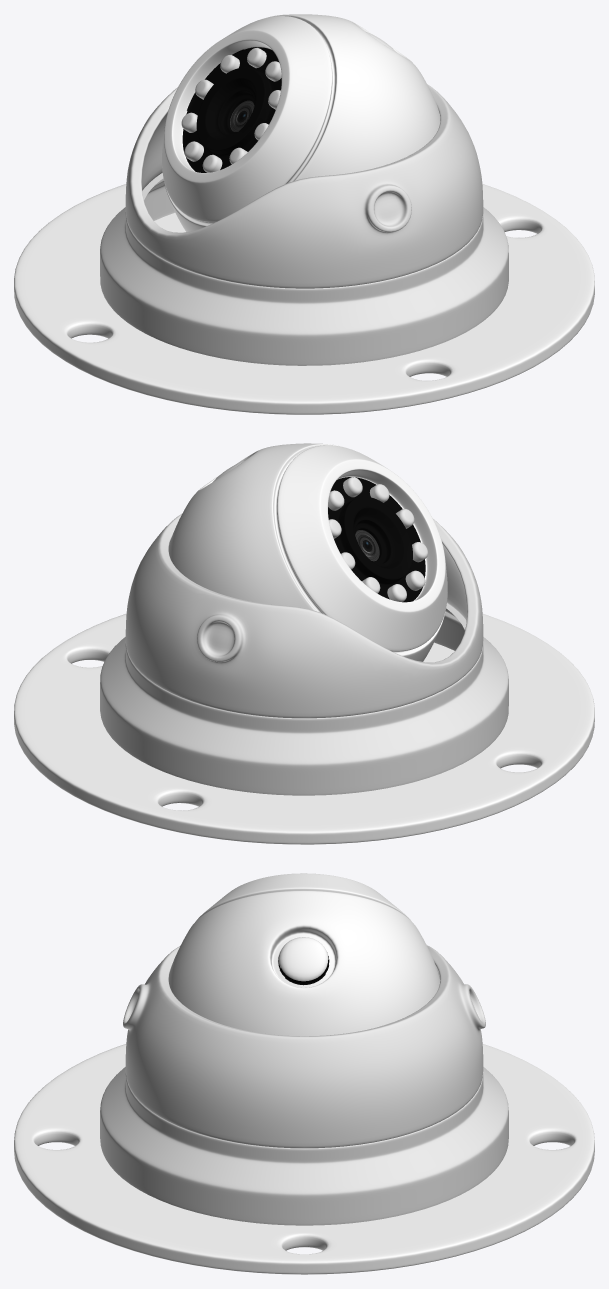
Rendered from Camera.fbx.
3 renders of one model, top to bottom at view 1: azimuth 30°, elevation 25°; view 2: azimuth 150°, elevation 25°; view 3: azimuth 270°, elevation 25°, orthographic.
Parts seen in each view (by area): view 1: Footholder, Ball, Holder, Foot, Light; view 2: Footholder, Ball, Holder, Foot, Light; view 3: Footholder, Holder, Ball, Foot.
Part boxes in pixels (<box>): Footholder: <box>14,184,594,414</box>; Ball: <box>162,14,440,231</box>; Holder: <box>125,84,483,288</box>; Foot: <box>100,173,508,365</box>; Light: <box>181,48,281,172</box>; Footholder: <box>14,613,594,844</box>; Ball: <box>168,443,447,661</box>; Holder: <box>125,513,483,718</box>; Foot: <box>100,603,508,795</box>; Light: <box>328,477,427,601</box>; Footholder: <box>14,1044,594,1274</box>; Holder: <box>123,945,485,1148</box>; Ball: <box>168,873,440,1036</box>; Foot: <box>100,1067,508,1225</box>.
Bounding box in the file's own units: 345 × 175 × 345.
